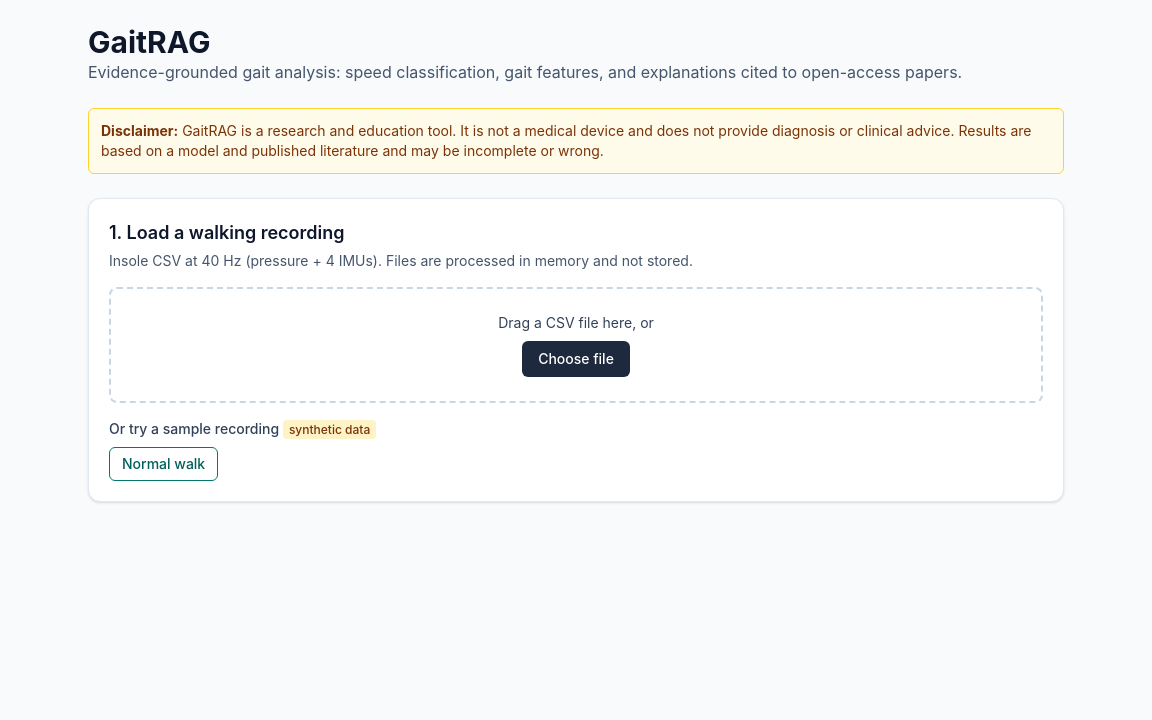
Test: runs the sample flow: prediction, cited answer, source panel
The image size is (1152, 720).
Click the button "Normal walk": [164, 464] box [109,447,218,481]
(page scrolled)
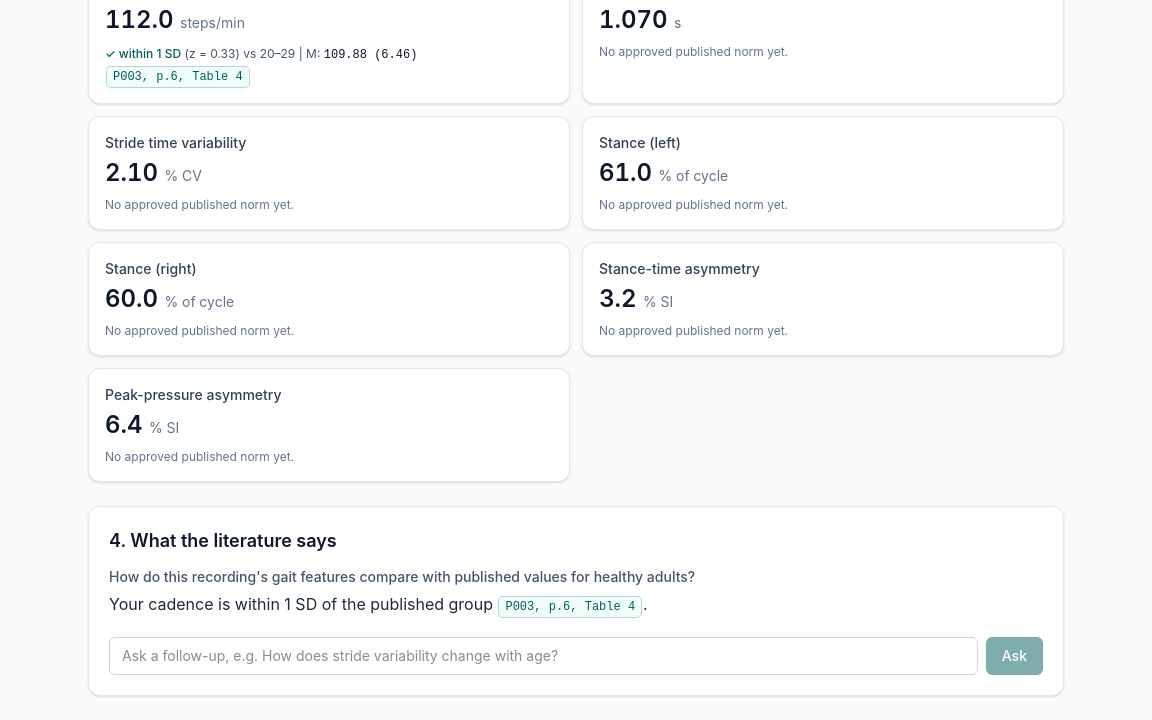
Click the button "P003, p.6, Table 4" below "4. What the literature says": [570, 606] box [500,596,641,616]
(page scrolled)
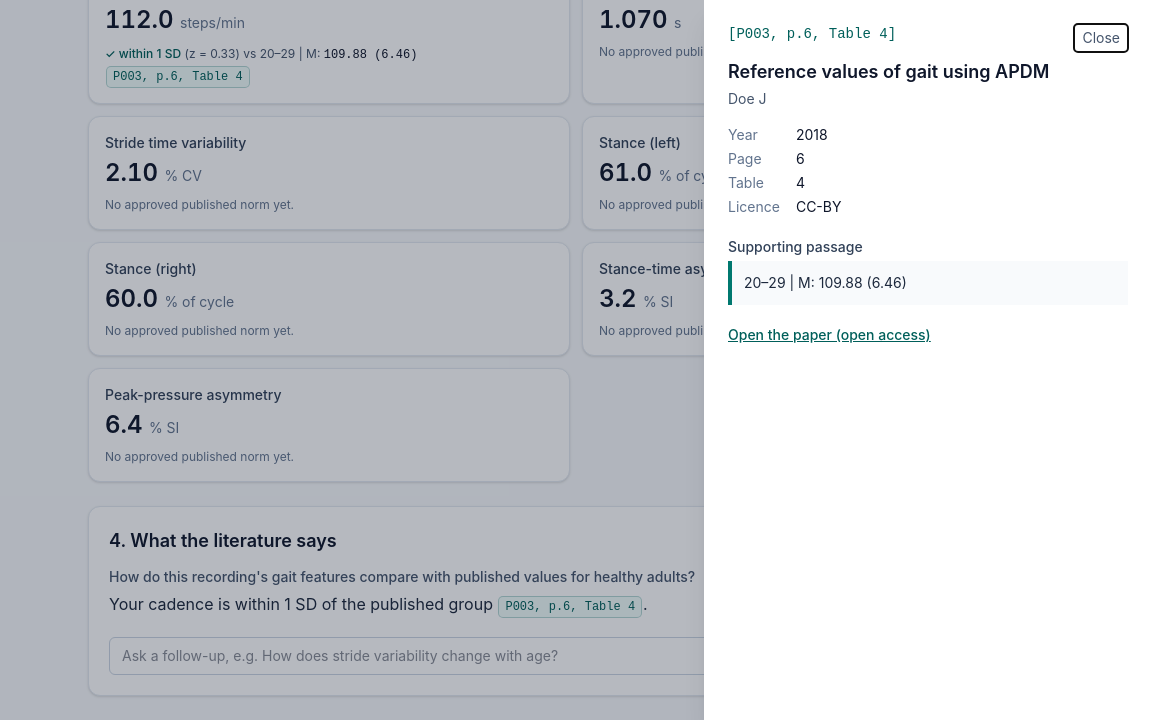
Expected: the dialog shows "Reference values of gait using APDM", [728,61,1049,82]
Expected: the dialog shows "CC-BY", [796,198,842,215]
Expected: the dialog shows "20–29 | M: 109.88 (6.46)", [744,274,907,291]
Press Escape
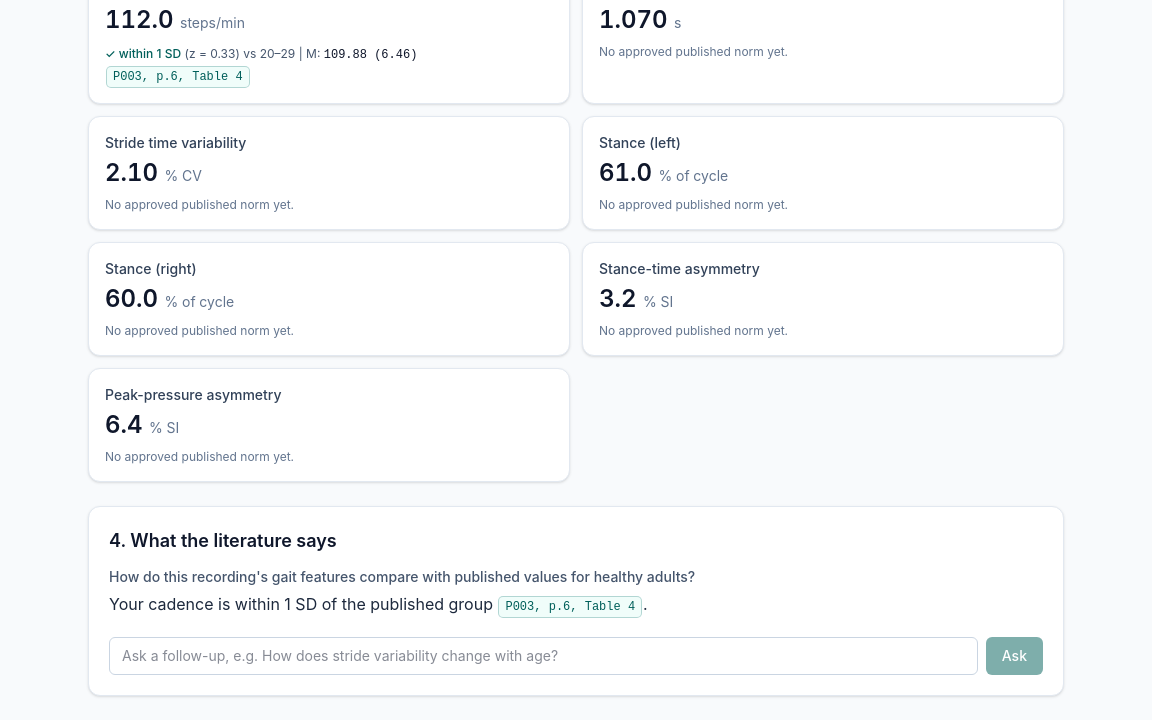
Expected: the dialog is gone
